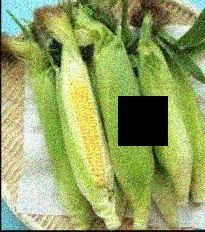corn: (63, 63, 107, 194)
corn_plant: (10, 39, 91, 230), (82, 10, 149, 209), (135, 24, 191, 197)
